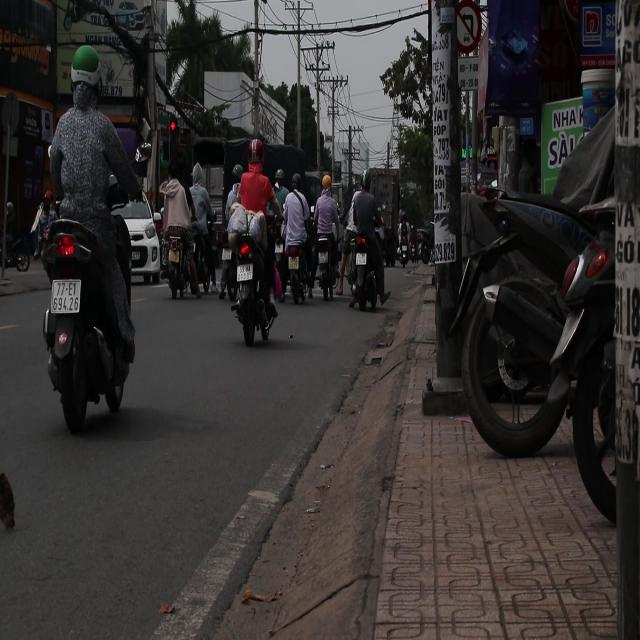car: (114, 194, 162, 283)
motorbike: (37, 209, 136, 430), (220, 208, 278, 347), (274, 220, 317, 316), (351, 233, 392, 324), (163, 224, 202, 298), (314, 227, 337, 321)
truck: (188, 114, 326, 250)
